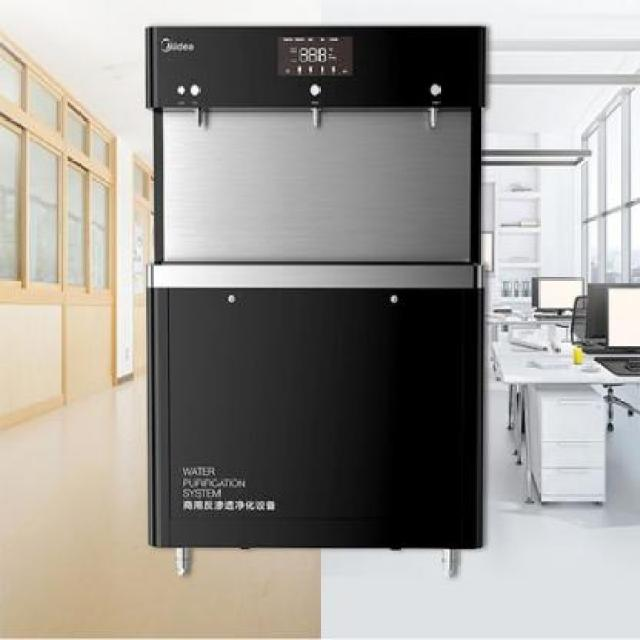cooler: (143, 16, 494, 582)
